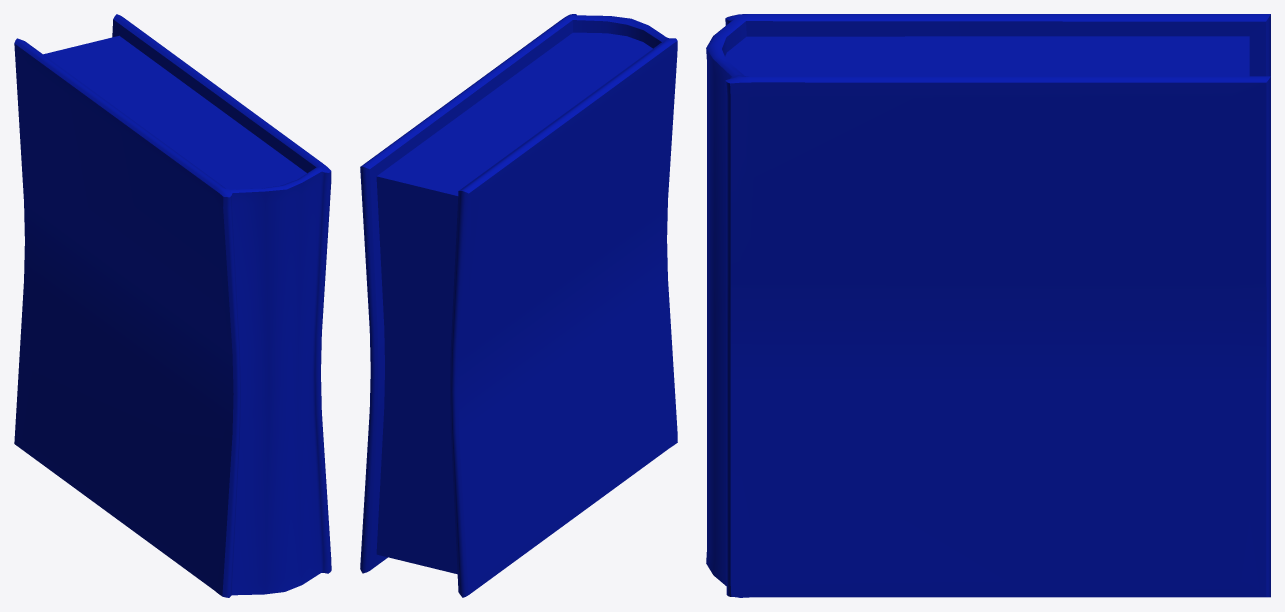
File: HD_Book_L.fbx
3 renders of one model, left to right at view 1: azimuth 30°, elevation 25°; view 2: azimuth 150°, elevation 25°; view 3: azimuth 270°, elevation 25°, orthographic. The views are drawn at different scales.
Visible parts, largest first — view 1: HD_Book_L; view 2: HD_Book_L; view 3: HD_Book_L.
Part boxes in pixels (bbox=[...]): HD_Book_L: bbox=[14, 14, 331, 597]; HD_Book_L: bbox=[360, 14, 677, 597]; HD_Book_L: bbox=[706, 14, 1270, 597].
Bounding box in the file's own units: 0.119 × 0.4241 × 0.4162.
